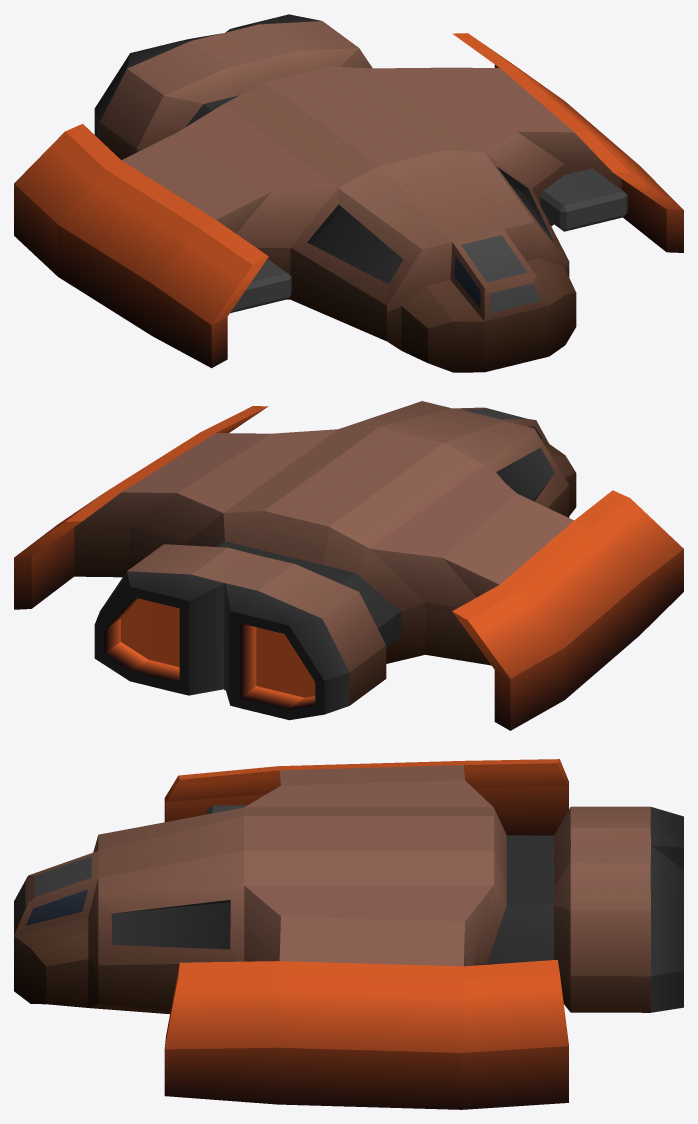
Rendered from bomber.glb.
The picture shows the model from 3 angles, top to bottom: view 1: azimuth 30°, elevation 25°; view 2: azimuth 150°, elevation 25°; view 3: azimuth 270°, elevation 25°; orthographic projection. The views are drawn at different scales.
Parts seen in each view (by area): view 1: Hull; view 2: Hull; view 3: Hull.
Part boxes in pixels (bbox=[...]): Hull: bbox=[14, 14, 683, 372]; Hull: bbox=[14, 401, 683, 730]; Hull: bbox=[14, 759, 683, 1109].
Size of what is drawn, in the model's own units: 5.1 by 1.25 by 5.35.
1 material, 1 textured.
